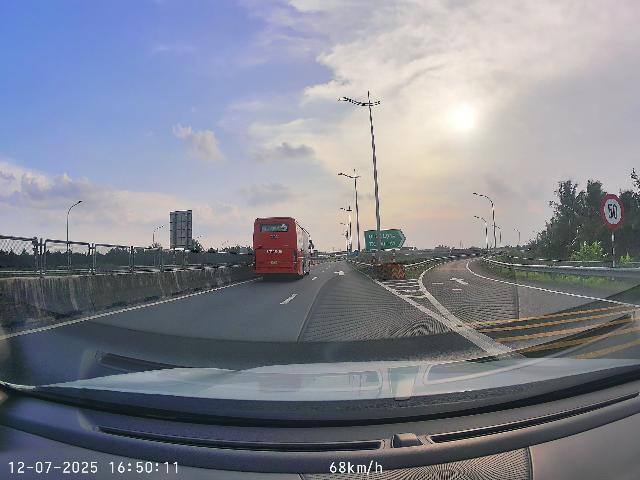127-toc-do-toi-da-50: (601, 193, 625, 230)
